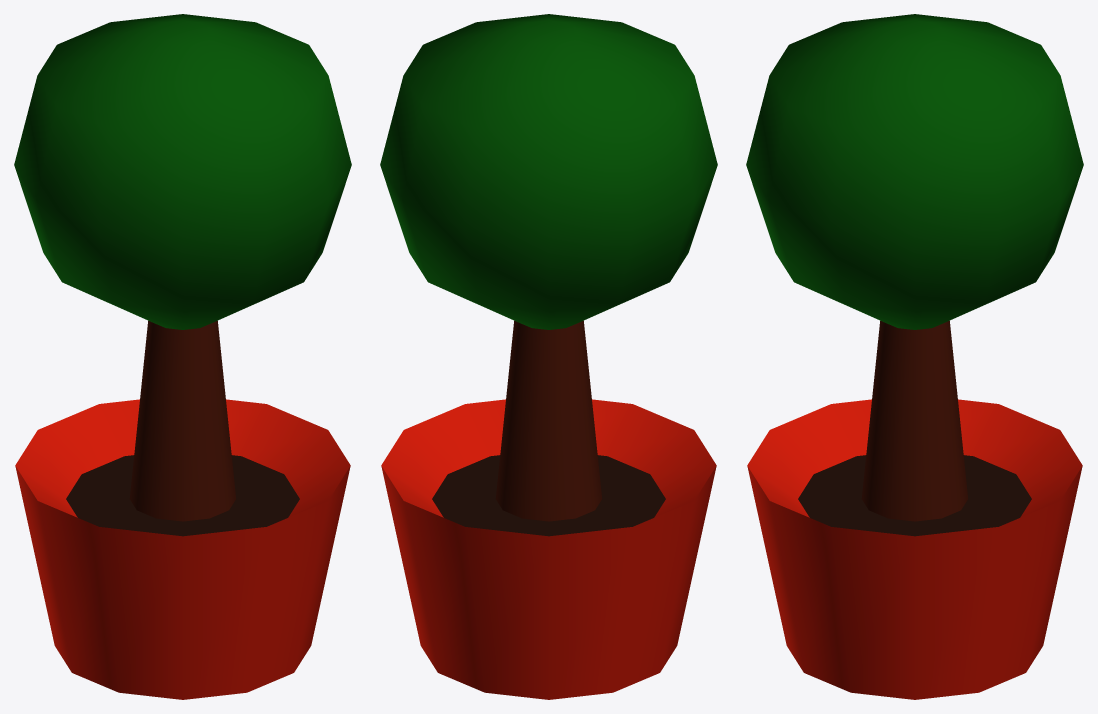
Rendered from House_Anywhere_Plant_round.FBX.
3 views of the same model, side by side, from view 1: azimuth 30°, elevation 25°; view 2: azimuth 150°, elevation 25°; view 3: azimuth 270°, elevation 25° (orthographic).
Parts seen in each view (by area): view 1: House_Anywhere_Plant_round; view 2: House_Anywhere_Plant_round; view 3: House_Anywhere_Plant_round.
Boxes of the visible parts, left/top/right/bottom form: House_Anywhere_Plant_round: left=14, top=14, right=351, bottom=699; House_Anywhere_Plant_round: left=380, top=14, right=717, bottom=699; House_Anywhere_Plant_round: left=746, top=14, right=1083, bottom=699.
Size of the model in its own units: 35.52 by 71.07 by 35.52.
